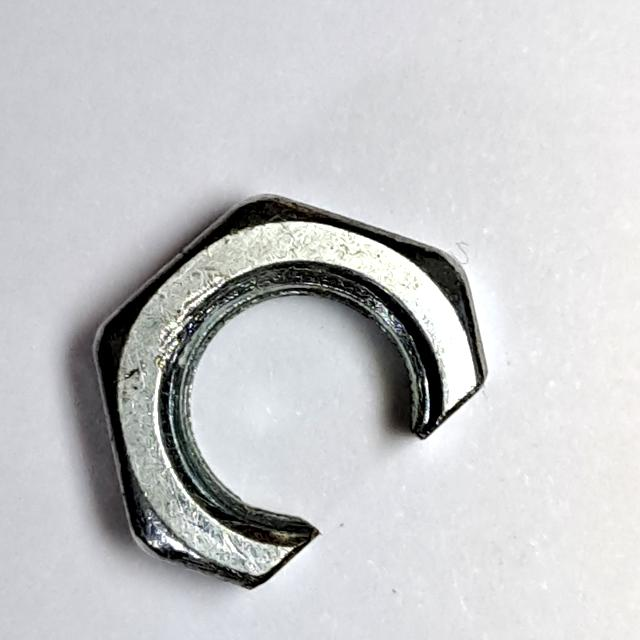Fracture: (83, 171, 516, 606)
